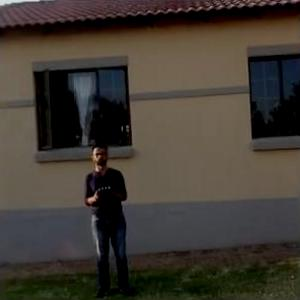follow: (80, 138, 133, 299)
